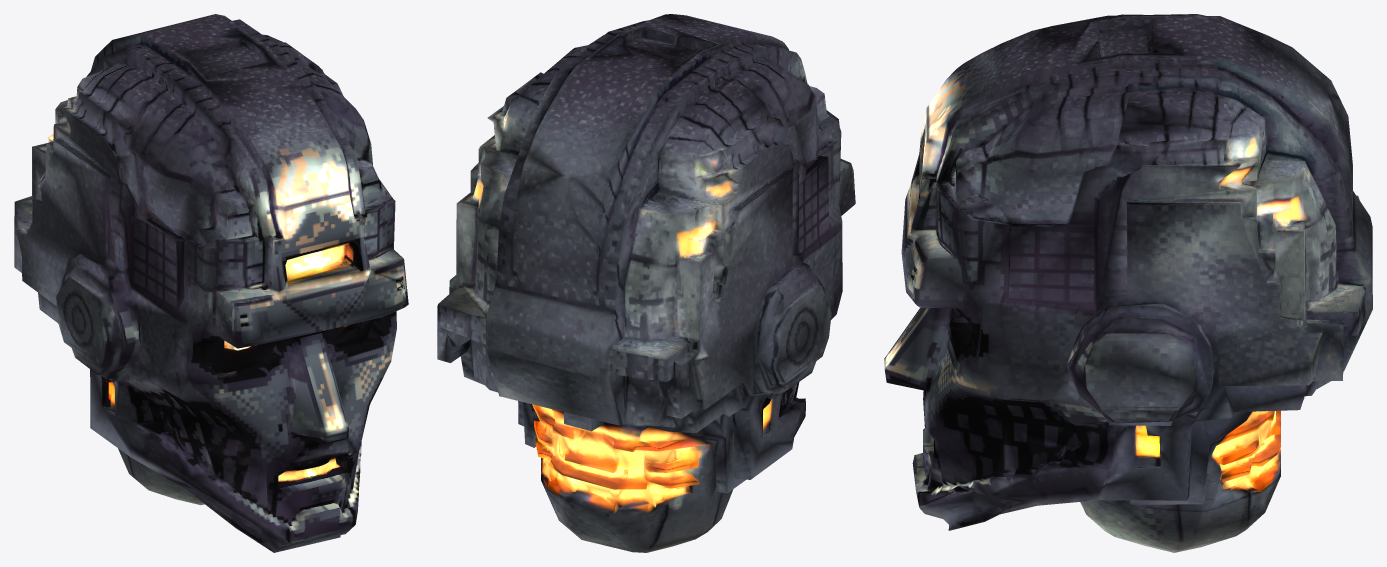
File: sentinel_biped_head.glb
3 renders of one model, left to right at view 1: azimuth 30°, elevation 25°; view 2: azimuth 150°, elevation 25°; view 3: azimuth 270°, elevation 25°, orthographic. The views are drawn at different scales.
Visible parts, largest first — view 1: mesh_node; view 2: mesh_node; view 3: mesh_node.
Part boxes in pixels (<box>): mesh_node: <box>14,14,408,552</box>; mesh_node: <box>437,14,855,552</box>; mesh_node: <box>884,14,1372,552</box>.
Bounding box in the file's own units: 1.23 × 1.9 × 1.68.
1 material, 1 textured.
